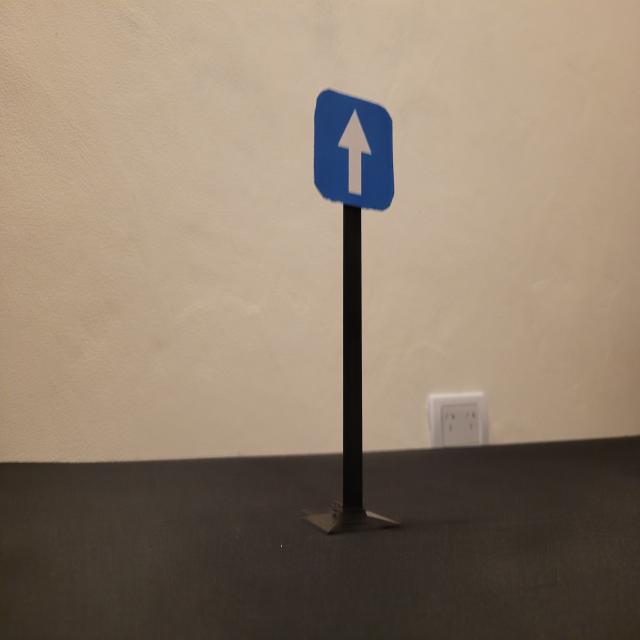one_way: (312, 88, 394, 212)
